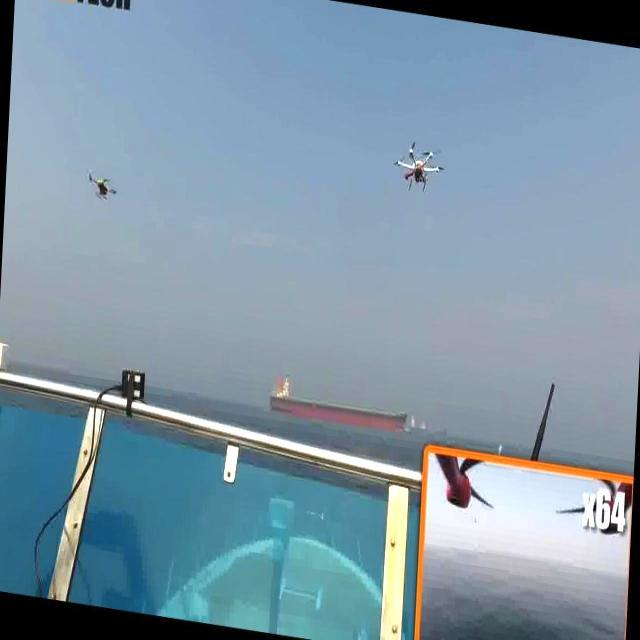drone: (384, 125, 449, 205), (80, 153, 130, 215)
